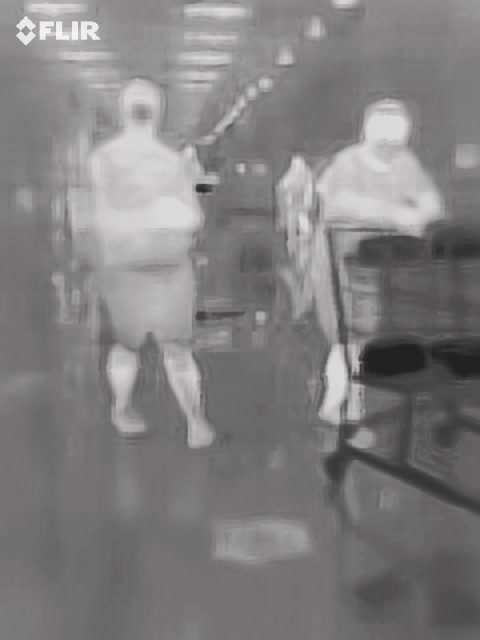head: (362, 95, 412, 159), (118, 76, 167, 135)
